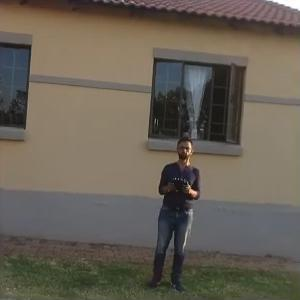follow: (149, 133, 204, 295)
